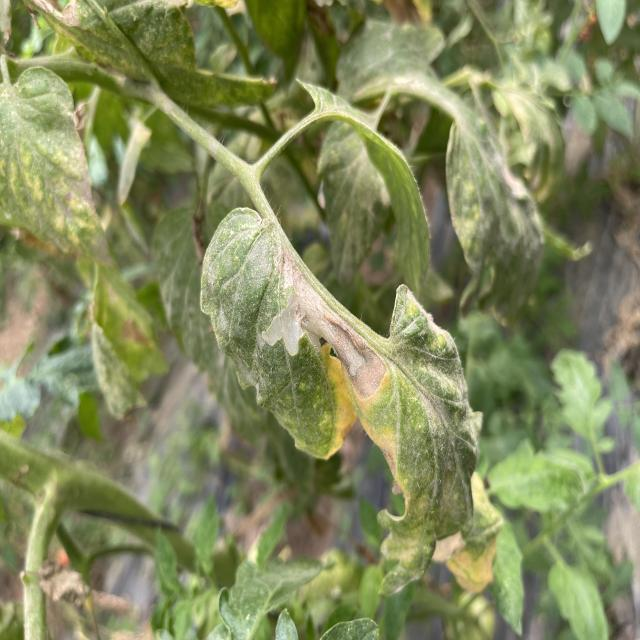Tuta absoluta: (259, 293, 324, 361)
